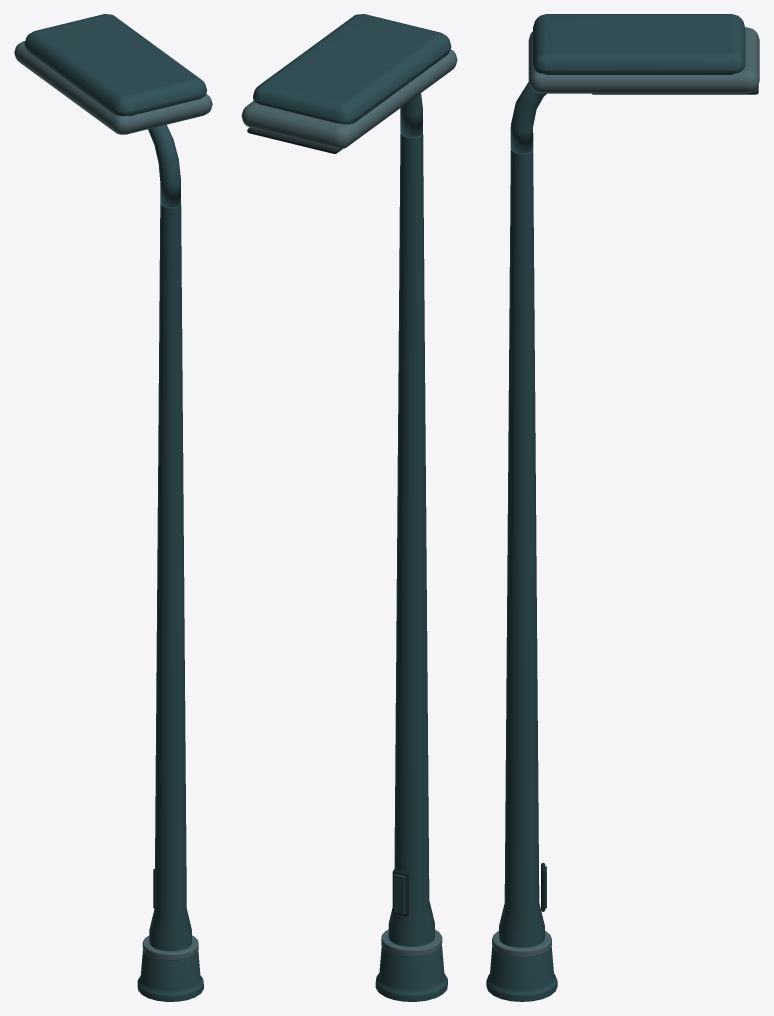
Rendered from city_lights_01_cool.glb.
The picture shows the model from 3 angles, left to right: view 1: azimuth 30°, elevation 25°; view 2: azimuth 150°, elevation 25°; view 3: azimuth 270°, elevation 25°; orthographic projection. The views are drawn at different scales.
Visible parts, largest first — view 1: CityLights01_Mesh; view 2: CityLights01_Mesh; view 3: CityLights01_Mesh.
Part boxes in pixels (<box>): CityLights01_Mesh: <box>14,14,212,1001</box>; CityLights01_Mesh: <box>241,14,457,1001</box>; CityLights01_Mesh: <box>486,14,759,1001</box>.
Size of the model in its own units: 0.72 by 6.2 by 1.61.
